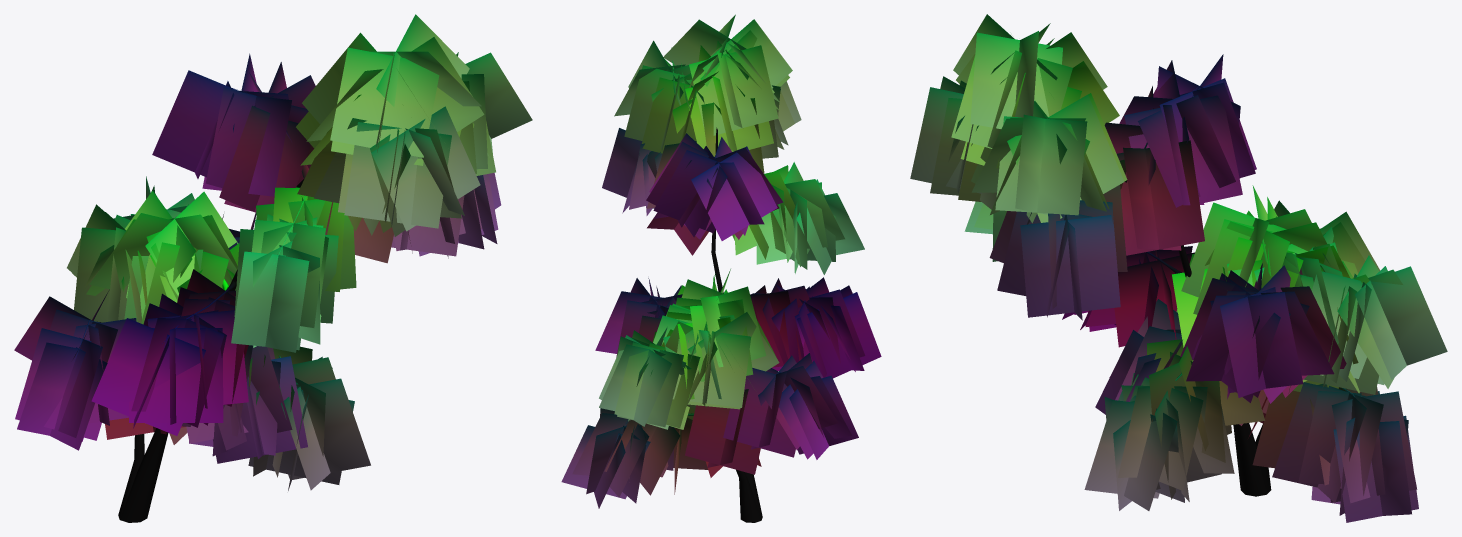
File: URP_P13_Tree_8_LOD_2.fbx
3 views of the same model, side by side, from view 1: azimuth 30°, elevation 25°; view 2: azimuth 150°, elevation 25°; view 3: azimuth 270°, elevation 25° (orthographic). The views are drawn at different scales.
Parts seen in each view (by area): view 1: Tree_8_LOD_2; view 2: Tree_8_LOD_2; view 3: Tree_8_LOD_2.
Boxes of the visible parts, box(x1,y1,x2,y2) form: Tree_8_LOD_2: box(14, 14, 532, 522); Tree_8_LOD_2: box(561, 14, 881, 522); Tree_8_LOD_2: box(910, 14, 1447, 522).
Size of the model in its own units: 532 by 663 by 590.
